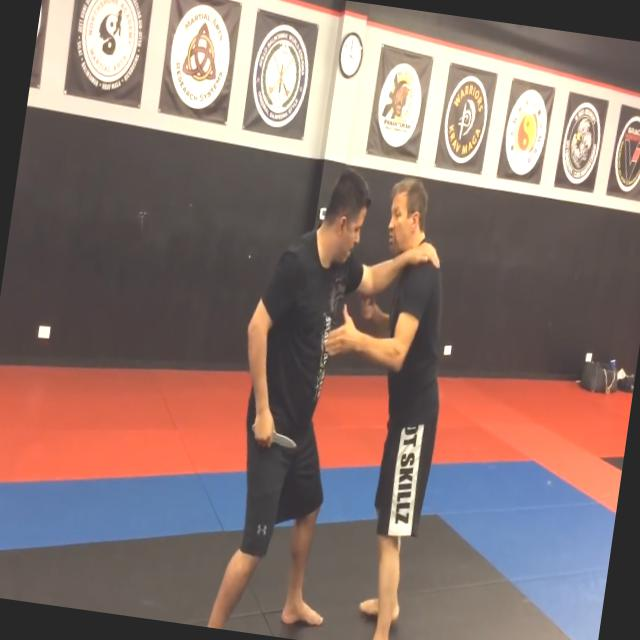knife: (246, 414, 302, 452)
